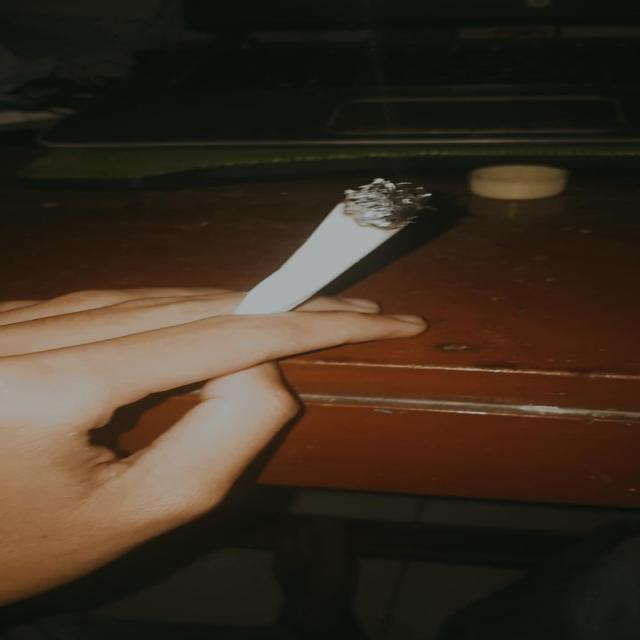rokok: (222, 172, 430, 324)
